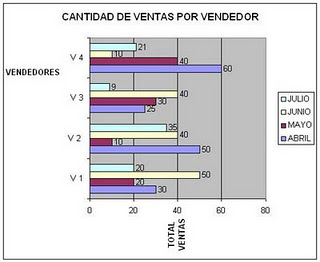canvas: (92, 40, 263, 195)
legend: (276, 90, 316, 147)
title: (60, 8, 261, 27)
x-axis: (86, 195, 269, 204)
x-labels: (86, 205, 271, 214)
x-title: (164, 217, 190, 252)
y-axis: (86, 35, 93, 203)
y-labels: (67, 51, 85, 187)
y-title: (5, 63, 62, 78)
